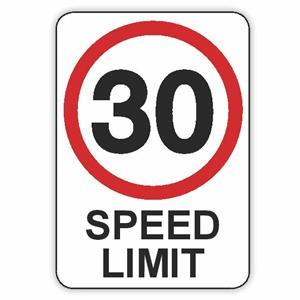Speed_limit_30km: (62, 20, 244, 199)
